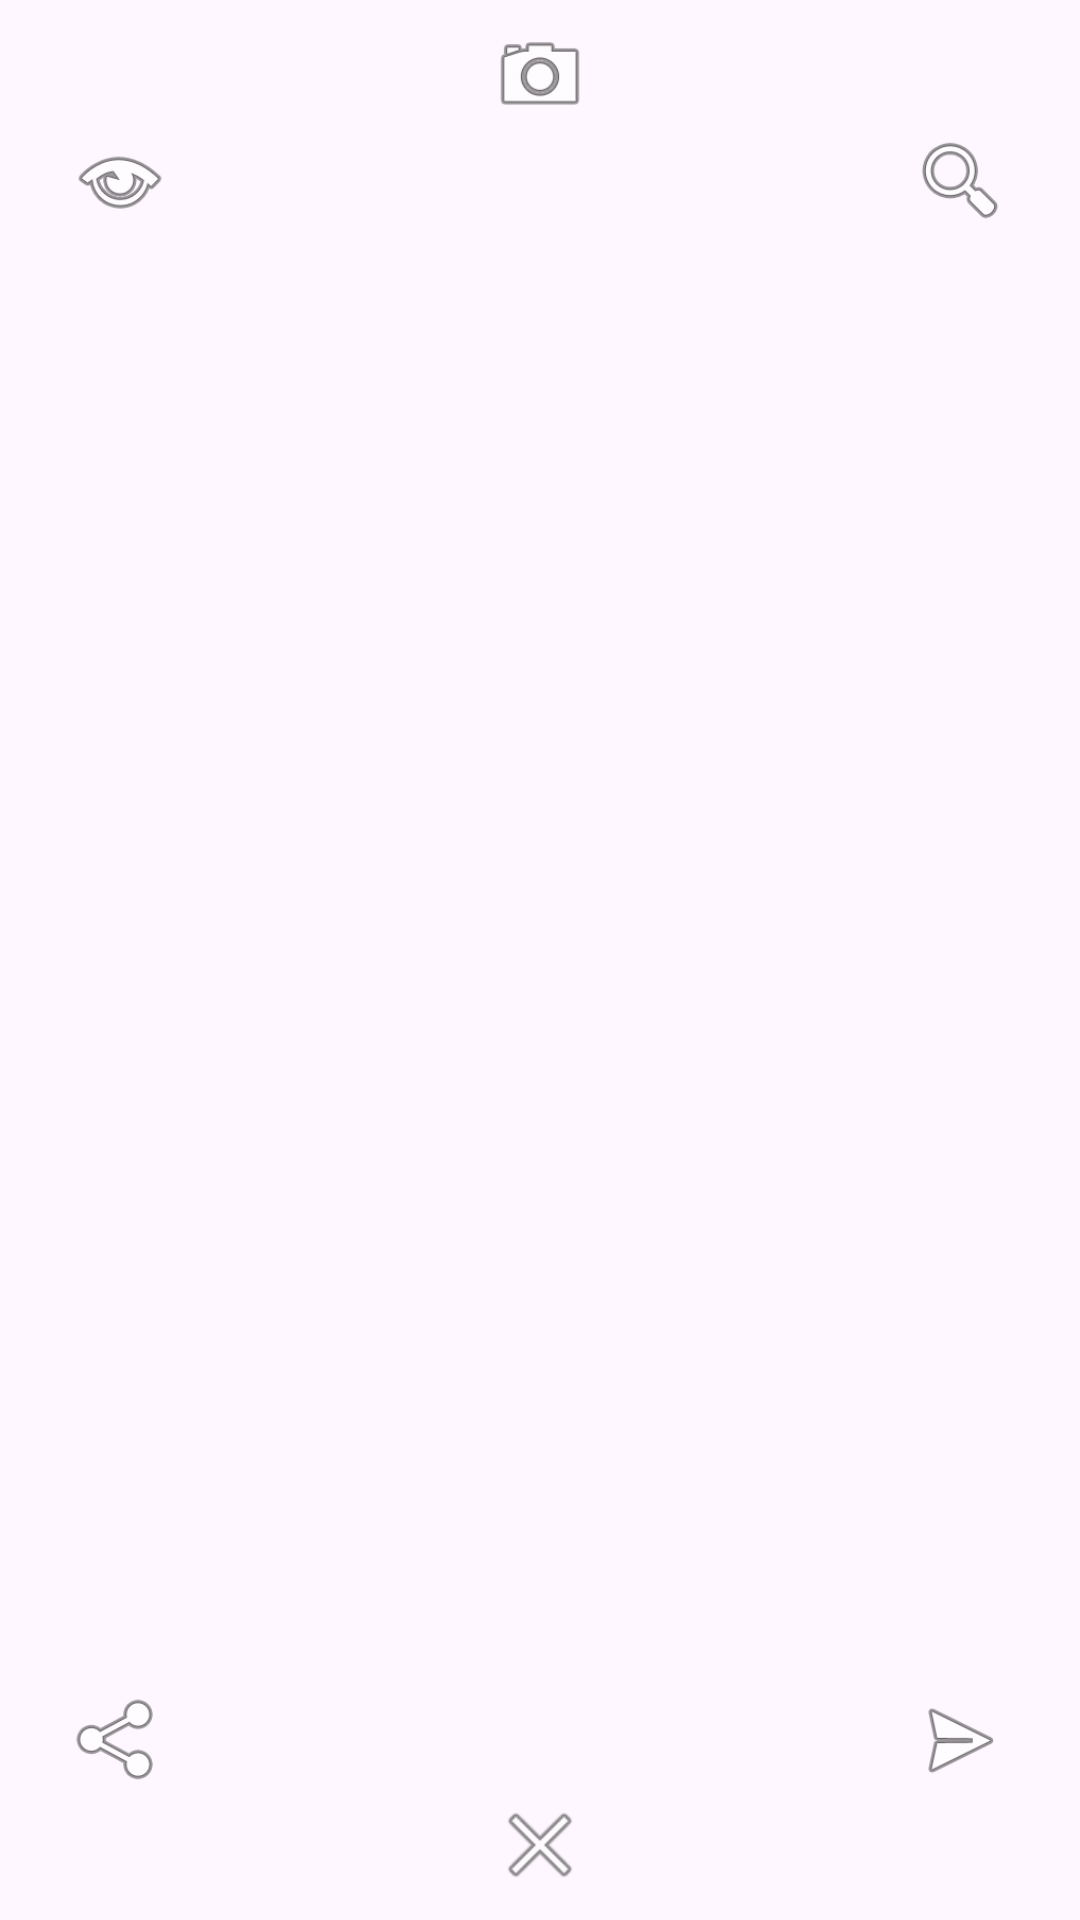

Screen size 1080×1920. Icon name, then its box in pixels as (x1, y1, x2, y2):
Screenshot: (501, 42, 579, 105)
